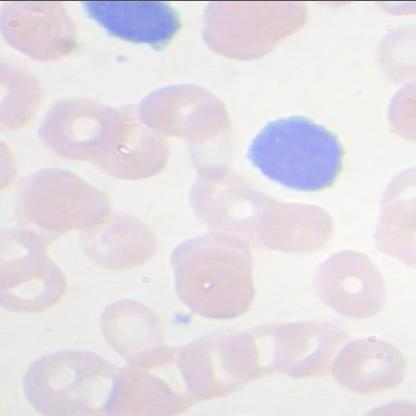Platelets: (168, 306, 196, 328)
RBC: (14, 162, 120, 236), (33, 84, 128, 162), (308, 246, 390, 322), (76, 203, 158, 279), (132, 80, 228, 142), (325, 325, 405, 399), (168, 260, 258, 324), (246, 194, 336, 258), (198, 1, 310, 52), (265, 315, 345, 382)
WBC: (233, 107, 350, 194), (75, 0, 185, 50)
